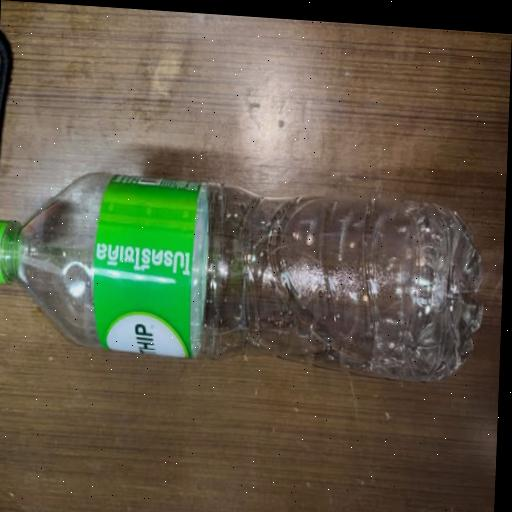bottle: (0, 160, 496, 396)
